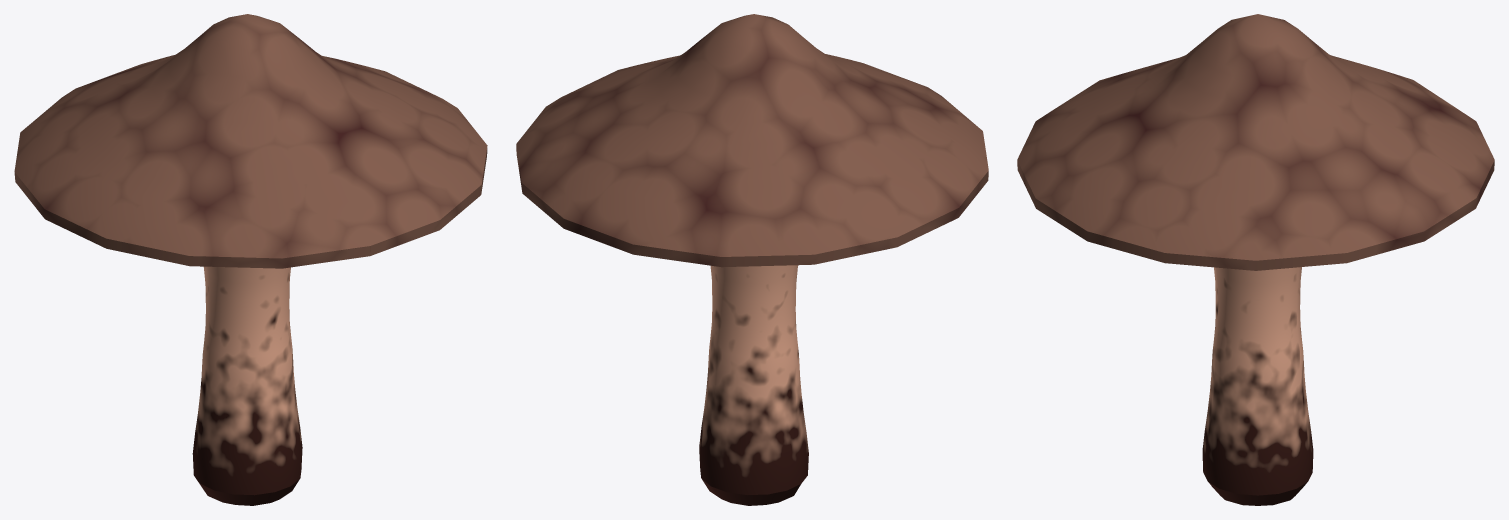
File: mushroom1.glb
3 renders of one model, left to right at view 1: azimuth 30°, elevation 25°; view 2: azimuth 150°, elevation 25°; view 3: azimuth 270°, elevation 25°, orthographic.
Parts seen in each view (by area): view 1: Mushroom1.001; view 2: Mushroom1.001; view 3: Mushroom1.001.
Part boxes in pixels (x1=…): Mushroom1.001: x1=14, y1=14, x2=487, y2=505; Mushroom1.001: x1=516, y1=14, x2=988, y2=505; Mushroom1.001: x1=1017, y1=14, x2=1494, y2=505.
Bounding box in the file's own units: 9.38 × 10.45 × 9.38.
1 material, 1 textured.
